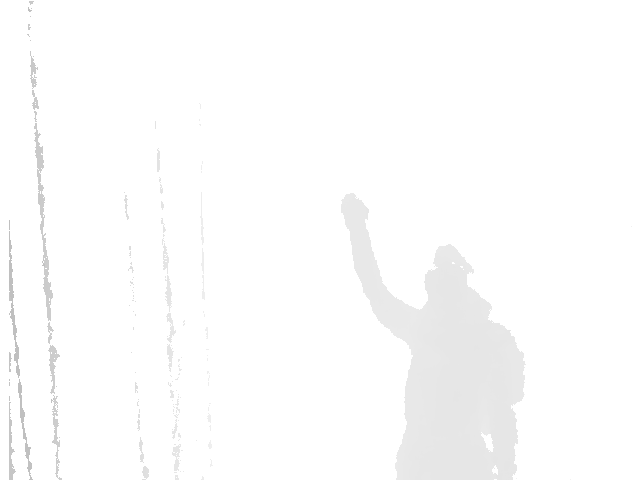hand: (422, 243, 488, 319), (340, 191, 372, 234)
person: (339, 190, 528, 480)
